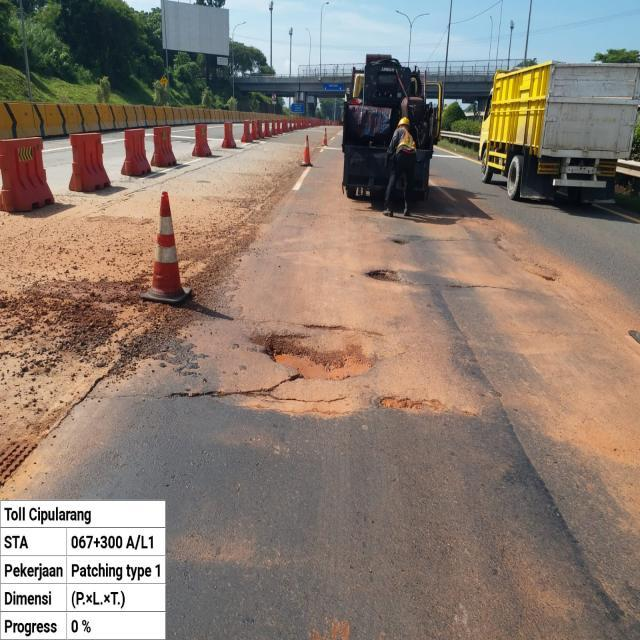Buraco: (246, 332, 381, 384), (372, 393, 448, 413), (362, 268, 405, 284), (536, 272, 558, 282), (389, 238, 412, 247)
